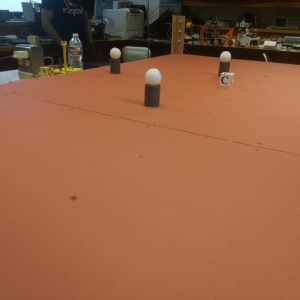blockC: (220, 70, 232, 87)
corner: (170, 15, 184, 54)
obstacle: (144, 69, 160, 106), (218, 49, 232, 77), (108, 49, 122, 74)
